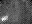person: (1, 15, 8, 22)
